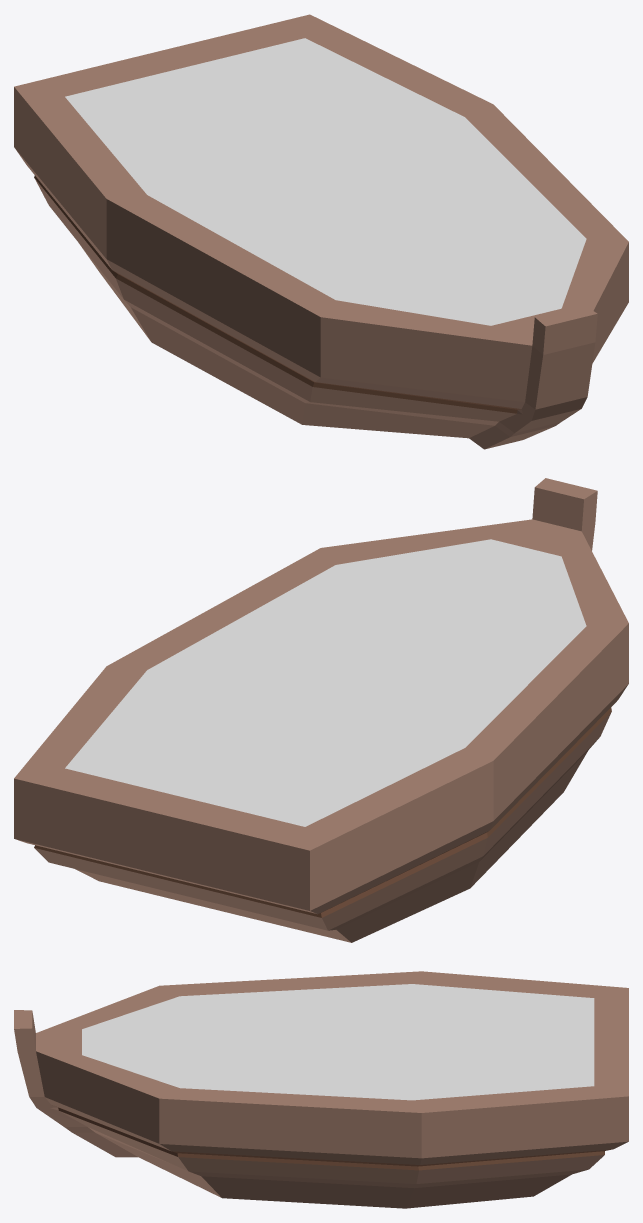
File: Small_boat.fbx
3 renders of one model, top to bottom at view 1: azimuth 30°, elevation 25°; view 2: azimuth 150°, elevation 25°; view 3: azimuth 270°, elevation 25°, orthographic. The views are drawn at different scales.
Parts seen in each view (by area): view 1: Boat, WaterMask; view 2: Boat, WaterMask; view 3: Boat, WaterMask.
Boxes of the visible parts, x1,y1,x2,y2 form: Boat: [14, 14, 628, 449]; WaterMask: [65, 38, 586, 325]; Boat: [14, 478, 628, 942]; WaterMask: [65, 539, 586, 826]; Boat: [14, 971, 628, 1208]; WaterMask: [82, 984, 594, 1100].
Size of the model in its own units: 178 by 76.47 by 326.
